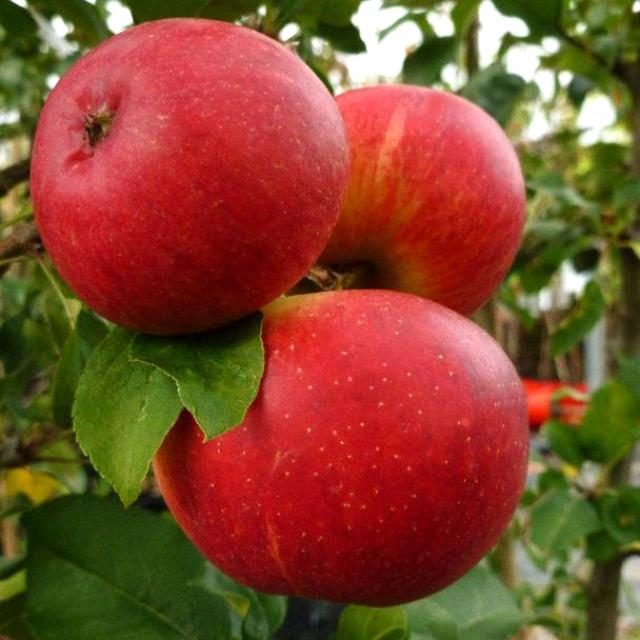HEALTHY: (177, 326, 540, 630), (0, 4, 344, 313), (356, 57, 575, 316)
